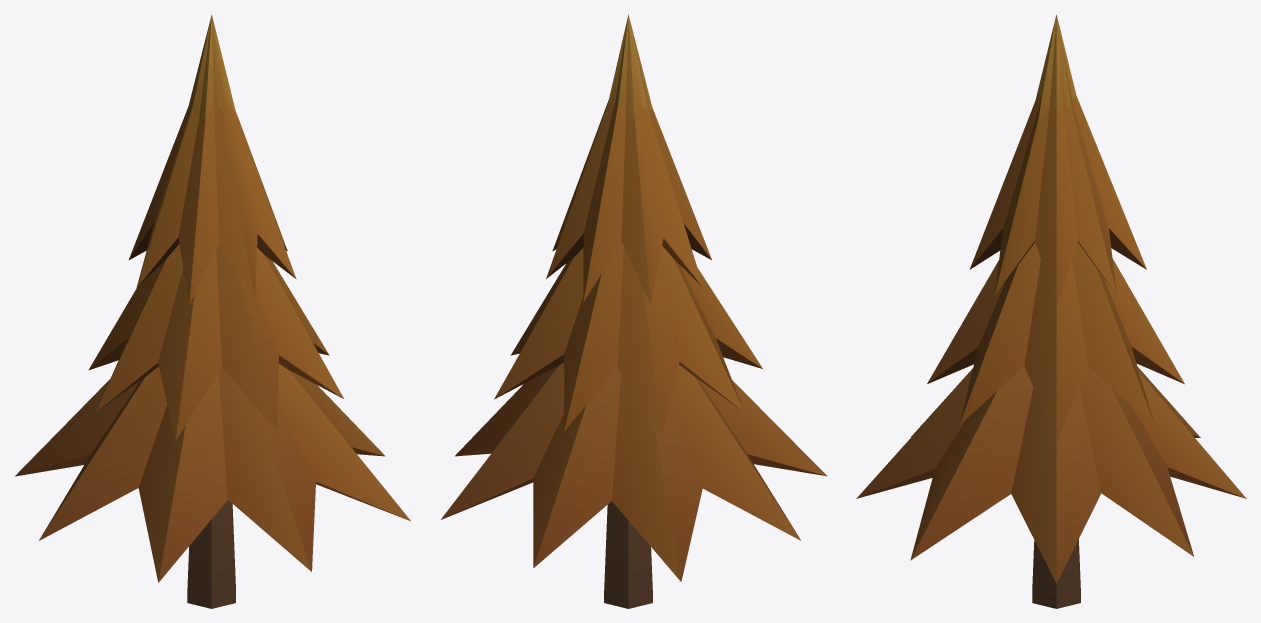
3 views of the same model, side by side, from view 1: azimuth 30°, elevation 25°; view 2: azimuth 150°, elevation 25°; view 3: azimuth 270°, elevation 25° (orthographic).
Visible parts, largest first — view 1: prop_pine_autumn; view 2: prop_pine_autumn; view 3: prop_pine_autumn.
Boxes of the visible parts, bbox=[...] form: prop_pine_autumn: bbox=[15, 14, 410, 608]; prop_pine_autumn: bbox=[441, 14, 827, 608]; prop_pine_autumn: bbox=[856, 14, 1246, 608].
Size of the model in its own units: 4.36 by 7 by 4.25.
